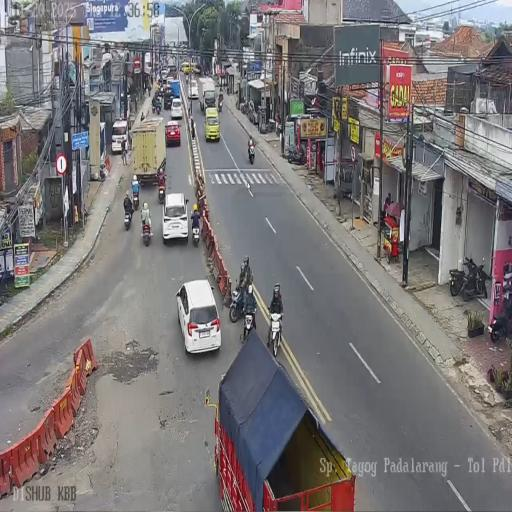3: (213, 328, 351, 509), (130, 115, 167, 186), (197, 76, 216, 114), (166, 58, 176, 73)
car: (177, 278, 221, 355), (161, 191, 190, 244), (112, 118, 130, 154), (204, 107, 220, 141), (165, 120, 181, 147), (170, 98, 182, 120), (188, 79, 199, 100), (164, 88, 173, 110), (166, 76, 175, 91), (161, 69, 169, 83), (183, 63, 190, 74), (194, 64, 201, 75)
truck: (461, 255, 489, 302), (488, 302, 510, 342), (228, 281, 248, 323), (268, 310, 283, 356), (241, 305, 257, 344), (449, 266, 466, 296), (286, 142, 306, 166), (141, 212, 152, 246), (191, 217, 201, 246), (124, 202, 133, 230), (132, 181, 140, 210), (158, 180, 166, 206), (248, 140, 256, 164), (240, 99, 248, 115), (276, 120, 282, 138), (190, 118, 195, 138), (156, 98, 162, 114), (218, 96, 224, 112), (152, 97, 156, 113)
